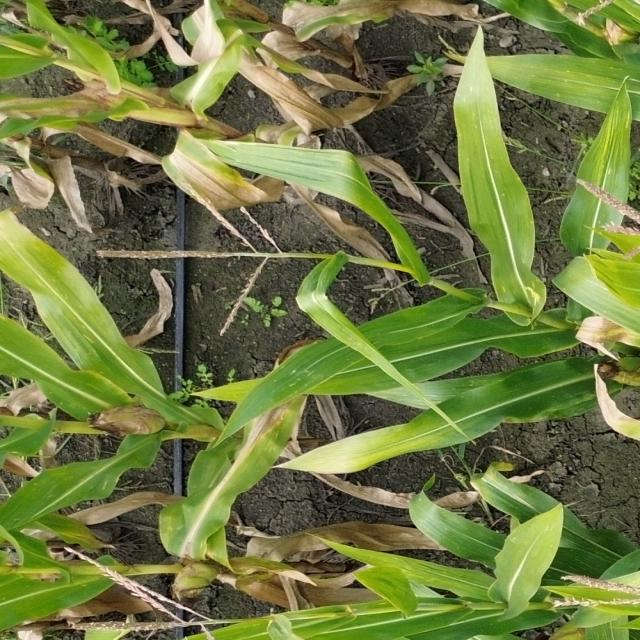gray-leaf-spot: (496, 270, 544, 316), (597, 114, 635, 172), (272, 364, 319, 397), (460, 375, 516, 393)
northern-leaf-blight: (167, 143, 240, 201), (225, 406, 280, 480), (185, 7, 227, 38)
southern-leaf-blight: (46, 284, 110, 372), (533, 56, 627, 108), (34, 466, 82, 501)
